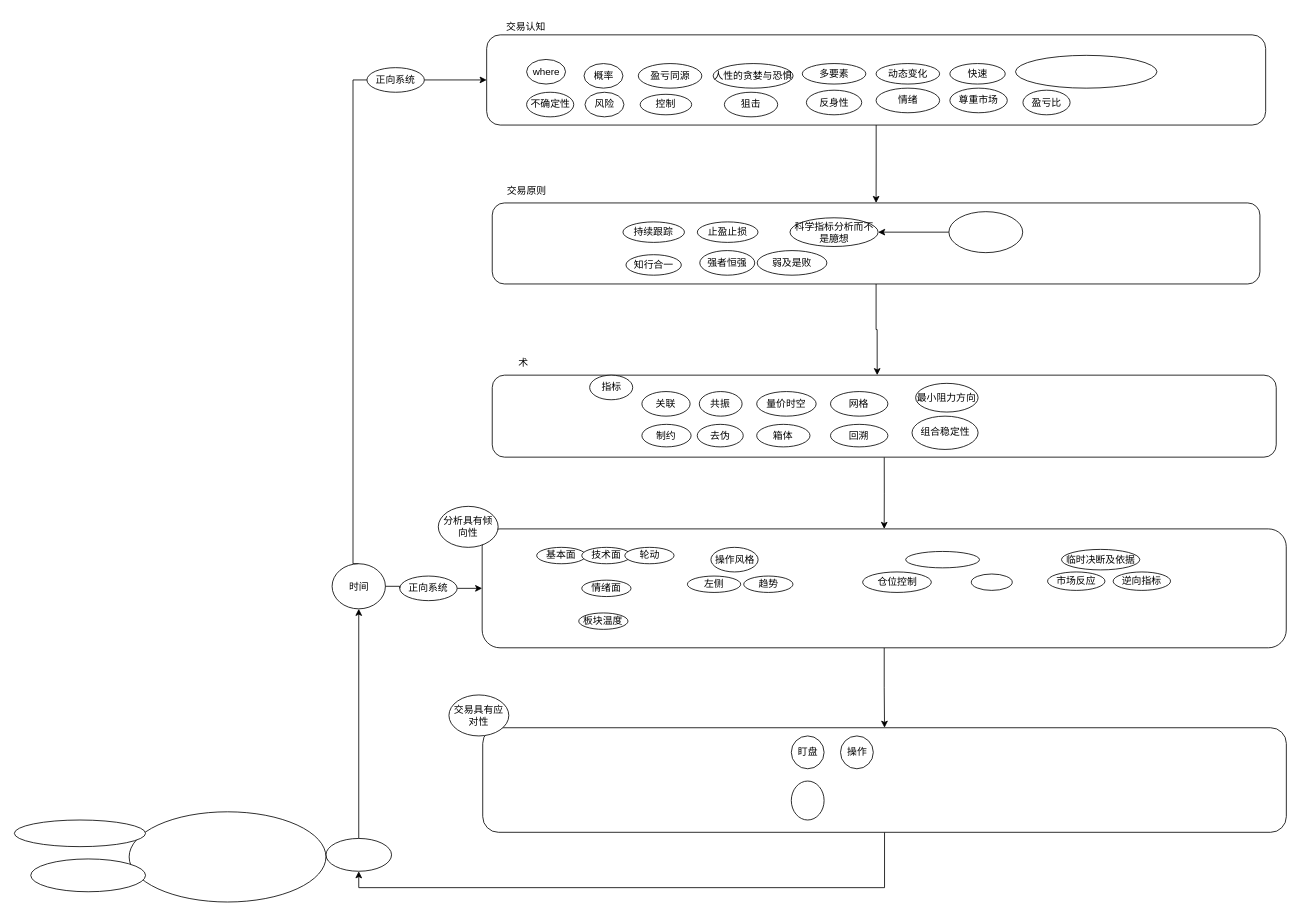
Image size: 1301x916. Some labels were removed from this diagram. The shapes that lost their labels are listed below. From the top down, each one's box as (x1, y1, x2, y2) in pixels, then its label:
(1015, 55, 1157, 88): 心理：买合理性而不是非得追底、追高
(948, 211, 1023, 253): 市场、人性反应与诱发
(905, 551, 979, 568): 策略
(970, 573, 1012, 590): 入场时机
(790, 780, 824, 820): 每日股池
(14, 819, 146, 847): 投资热点跟踪表
(128, 811, 326, 902): 忌讳：亏就装死，没有市场跟踪和思考、感知、加仓、新机会
(325, 838, 392, 871): 复盘
(30, 858, 146, 892): 投资复盘表
